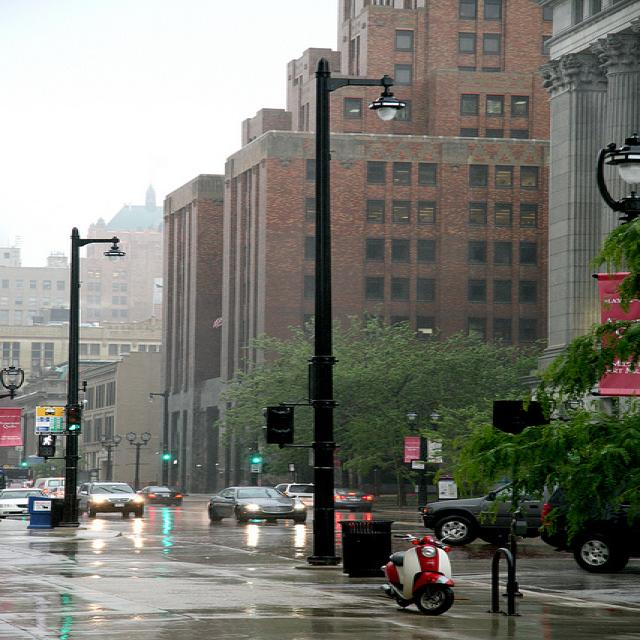motor: (380, 533, 457, 616)
